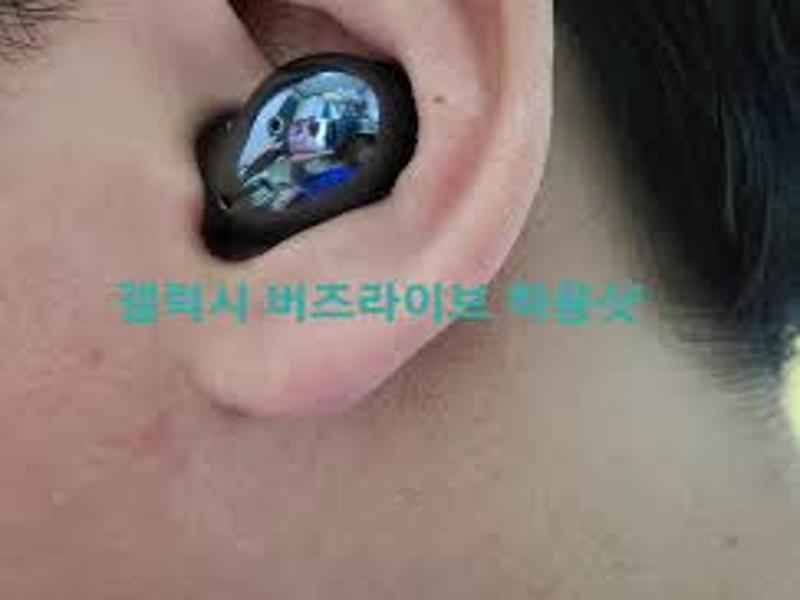headphone: (201, 43, 418, 263)
